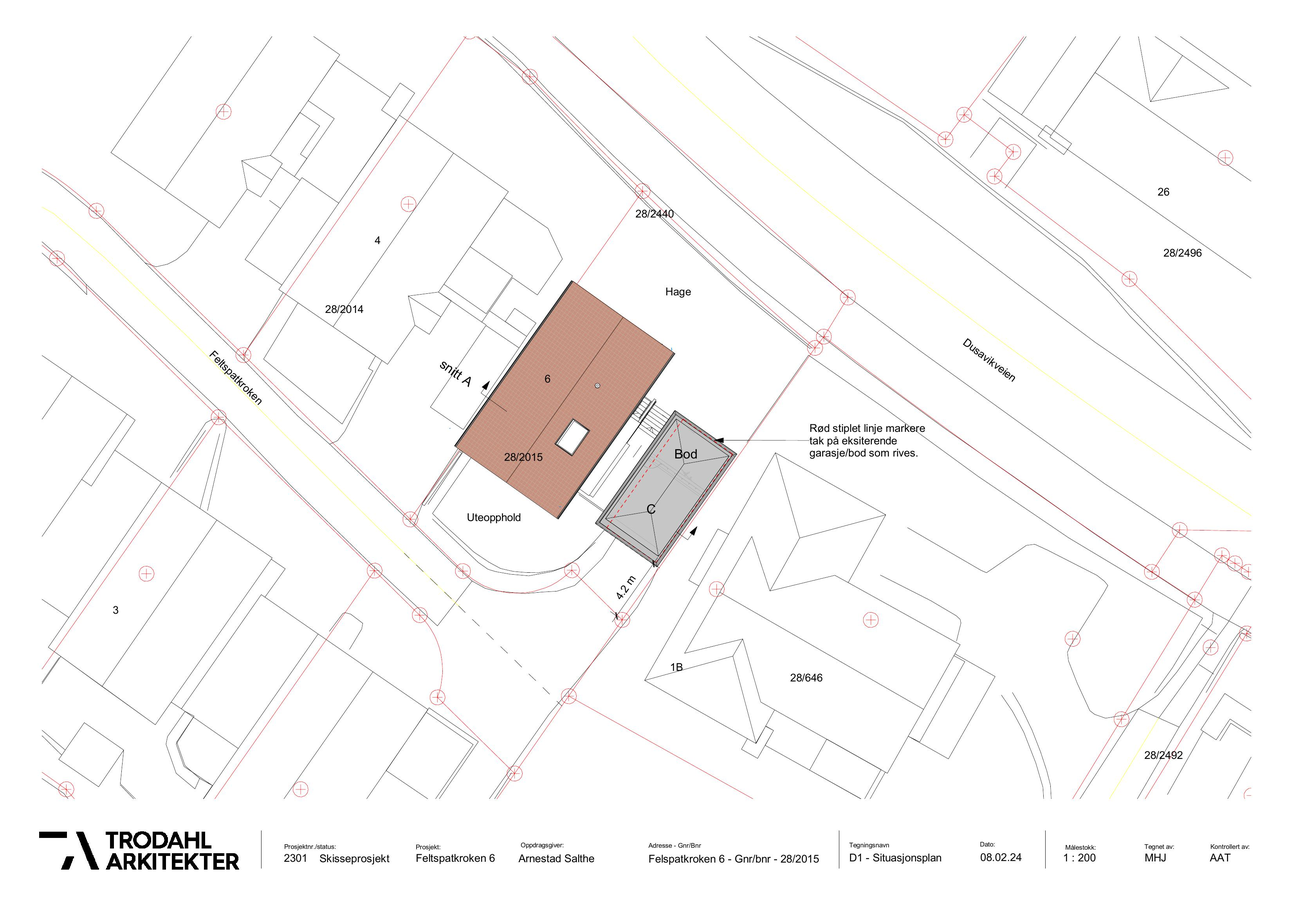situasjonskart: (45, 33, 1248, 824)
